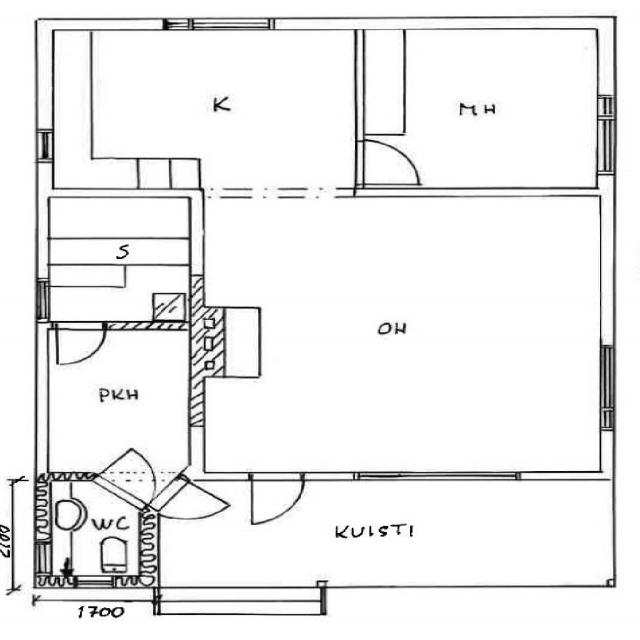door: (92, 442, 181, 510), (149, 475, 229, 533), (355, 140, 424, 184), (251, 472, 303, 518), (57, 321, 104, 364)
